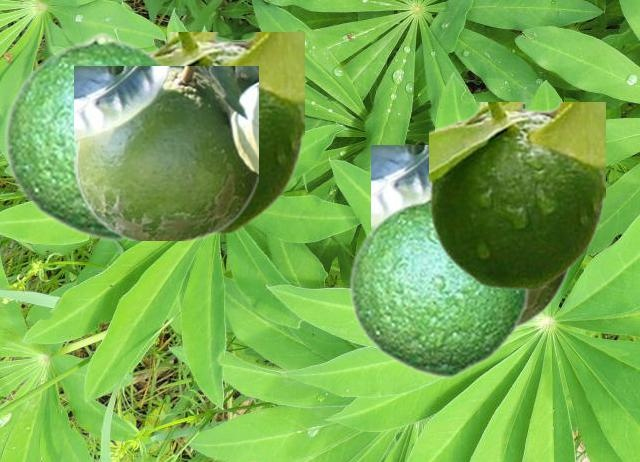dalandan: (371, 145, 568, 328), (2, 31, 171, 241), (347, 191, 528, 378), (429, 102, 604, 289), (74, 66, 257, 239), (147, 32, 303, 233)
